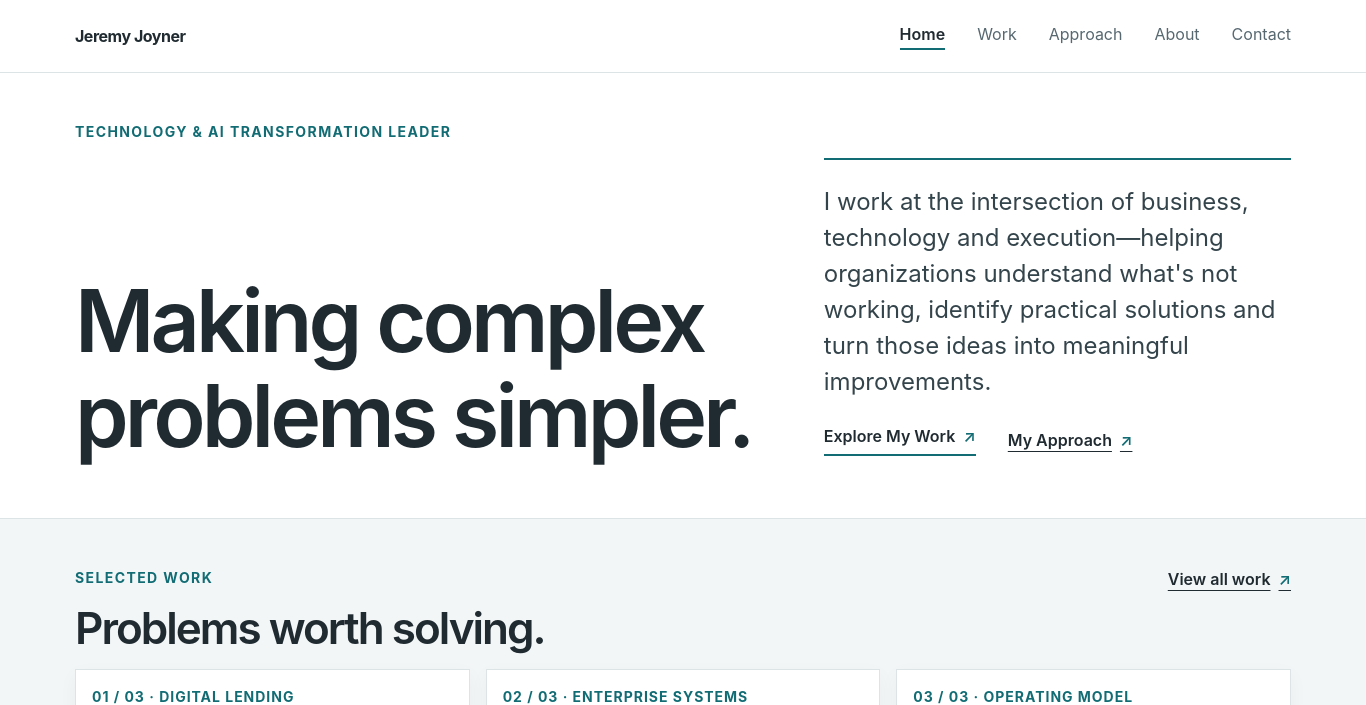
Scenario: portfolio routes and navigation › uses path links and marks the active primary navigation item
Click the link "Work". click: (997, 36)
box: [977,22,1017,50]
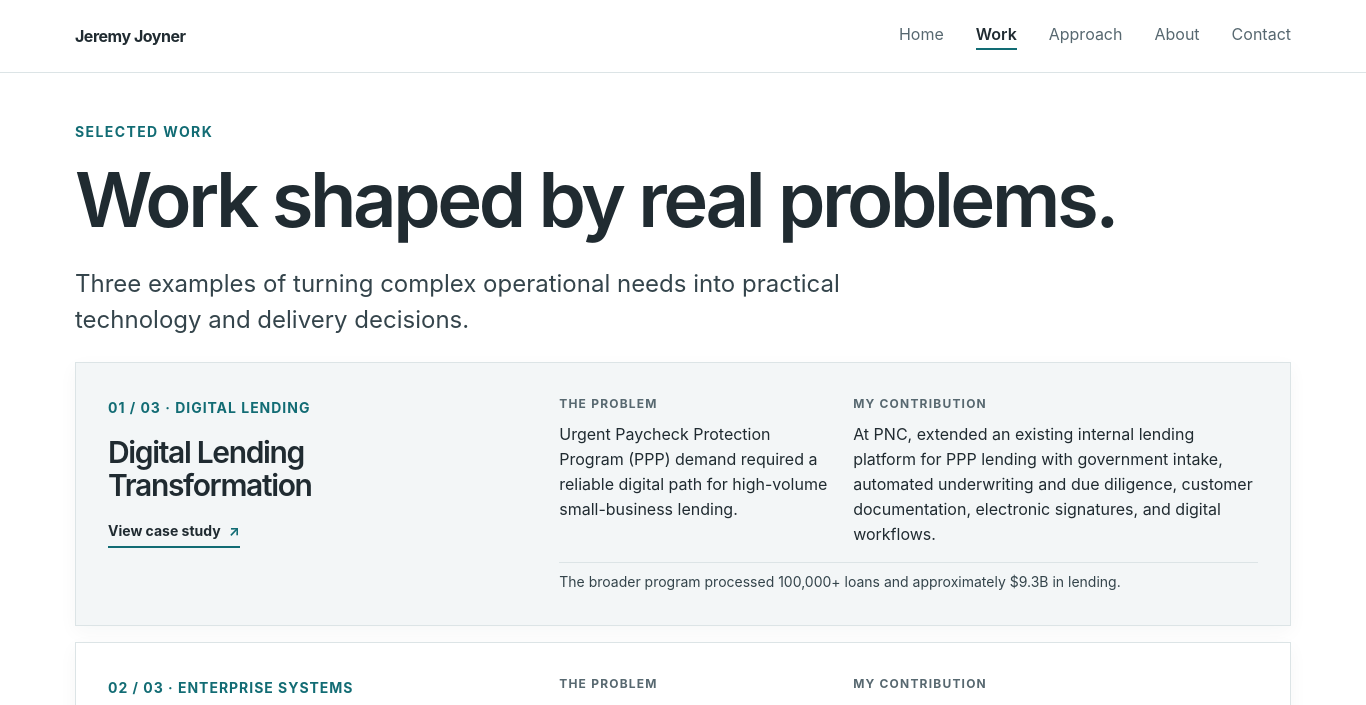
Expected: the heading "Work shaped by real problems." is shown, [75,158,1163,242]
